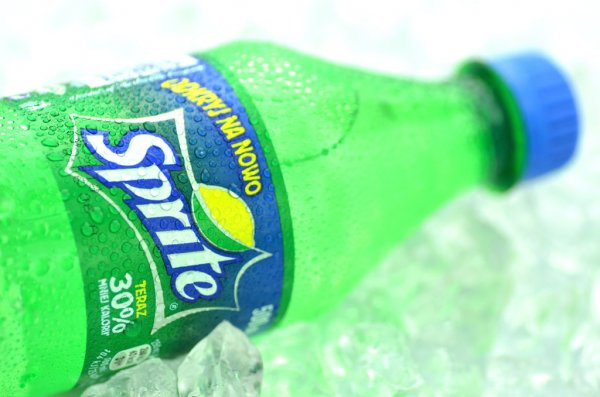Sprite: (4, 57, 535, 374)
